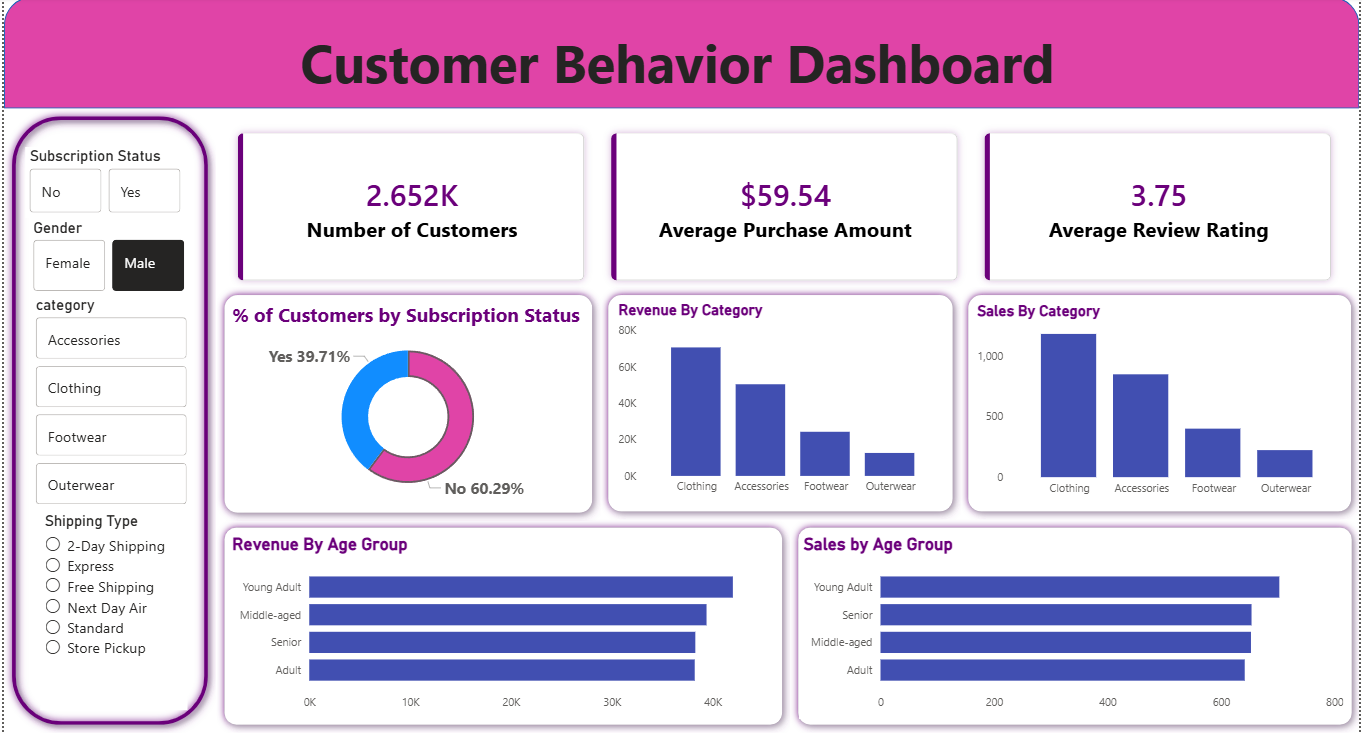

What the dashboard file says about the page in this screenshot:
{"tool":"powerbi","page":{"name":"Page 1","canvas":[1510,820],"ordinal":0},"visuals":[{"type":"cardVisual","fields":{"Data":["public customer.Number of Customers","public customer.Average Purchase Amount","public customer.Average Review Rating"]},"box":[233,124.2,1277,220.8],"z":0},{"type":"shape","box":[0,0,1510,124.2],"z":1000},{"type":"textbox","box":[0,27.9,1500.3,105.9],"z":2000},{"type":"shape","box":[236.1,323.5,427.7,260.6],"z":3000},{"type":"shape","box":[0,124.2,236.1,696],"z":4000},{"type":"shape","box":[1065.4,323.5,444.6,259.1],"z":5000},{"type":"shape","box":[663.8,323.5,401.6,259.1],"z":6000},{"type":"clusteredColumnChart","title":"Revenue By Category","fields":{"Y":["Sum(public customer.purchase_amount)"],"Category":["public customer.category"]},"box":[679.1,338.8,371,225.4],"z":7000},{"type":"clusteredColumnChart","title":"Sales By Category","fields":{"Y":["CountNonNull(public customer.customer_id)"],"Category":["public customer.category"]},"box":[1079.2,340.3,418.5,225.4],"z":8000},{"type":"donutChart","title":"%  of Customers by Subscription Status","fields":{"Category":["public customer.subscription_status"],"Y":["CountNonNull(public customer.customer_id)"]},"box":[249.9,338.8,401.6,229.9],"z":9000},{"type":"advancedSlicerVisual","fields":{"Values":["public customer.subscription_status"]},"box":[24.4,167.5,179.7,79.2],"z":10000},{"type":"advancedSlicerVisual","fields":{"Values":["public customer.gender"]},"box":[27.4,246.7,178.2,86.8],"z":11000},{"type":"advancedSlicerVisual","fields":{"Values":["public customer.category"]},"box":[30.5,333.5,178.2,239.1],"z":12000},{"type":"listSlicer","fields":{"Values":["public customer.shipping_type"]},"box":[39.9,573.3,164,220.8],"z":13000},{"type":"shape","box":[236.1,582.5,639.3,237.6],"z":14000},{"type":"clusteredBarChart","title":"Revenue By Age Group","fields":{"Y":["Sum(public customer.purchase_amount)"],"Category":["public customer.age_group"]},"box":[249.9,599.4,611.7,205.4],"z":15000},{"type":"shape","box":[875.3,582.5,634.7,237.6],"z":15001},{"type":"clusteredBarChart","title":"Sales by Age Group","fields":{"Y":["CountNonNull(public customer.customer_id)"],"Category":["public customer.age_group"]},"box":[886.1,599.4,611.7,205.4],"z":15002}]}

Visuals, with their boxes in screenshot pixels (x1, y1, x2, y2), scaled from the page's 1510x820 canvas onto the 1362x733 screenshot:
cardVisual - public customer.Number of Customers x public customer.Average Purchase Amount: 210/111/1361/308
shape: 0/0/1361/111
textbox: 0/25/1353/120
shape: 213/289/599/522
shape: 0/111/213/732
shape: 961/289/1361/521
shape: 599/289/961/521
"Revenue By Category" clusteredColumnChart: 613/303/947/504
"Sales By Category" clusteredColumnChart: 973/304/1351/506
"%  of Customers by Subscription Status" donutChart: 225/303/588/508
advancedSlicerVisual - public customer.subscription_status: 22/150/184/221
advancedSlicerVisual - public customer.gender: 25/221/185/298
advancedSlicerVisual - public customer.category: 28/298/188/512
listSlicer - public customer.shipping_type: 36/512/184/710
shape: 213/521/790/732
"Revenue By Age Group" clusteredBarChart: 225/536/777/719
shape: 790/521/1361/732
"Sales by Age Group" clusteredBarChart: 799/536/1351/719
